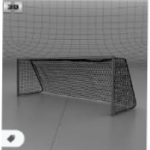goals: (14, 56, 139, 119)
